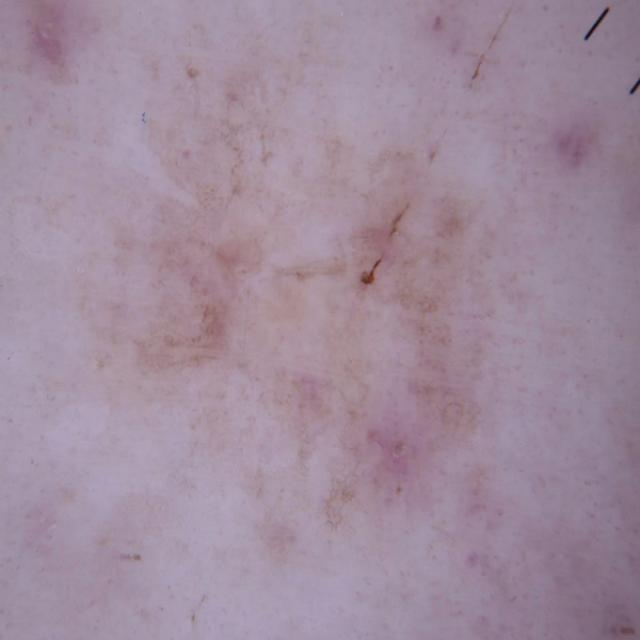Skin-Cancer Pigmented benign keratosis: (11, 1, 640, 639)
